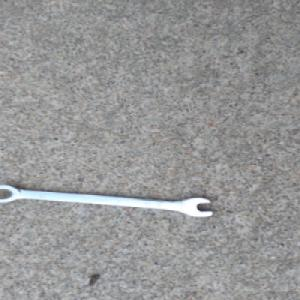Wrench: (0, 181, 216, 218)
